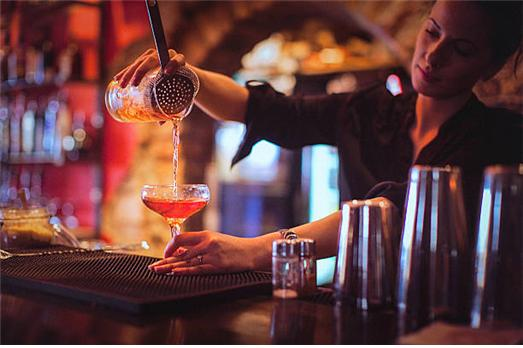alcohol: (102, 62, 203, 123), (141, 181, 213, 244)
